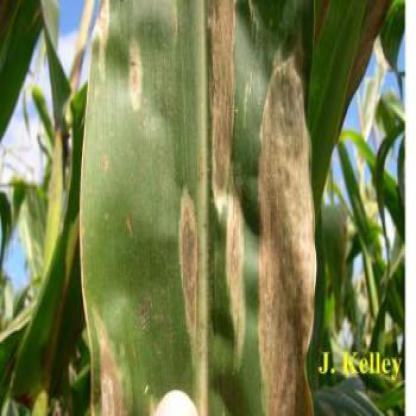Corn leaf blight: (84, 1, 310, 388)
